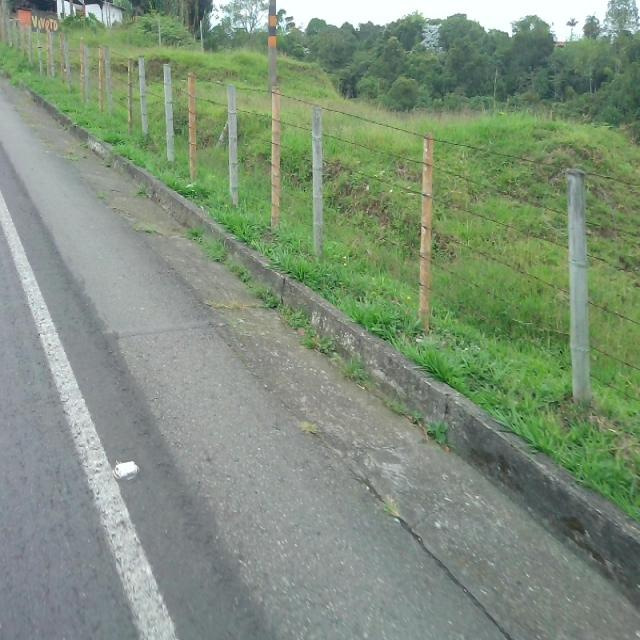DITCH: (1, 43, 638, 639), (1, 71, 638, 638)
